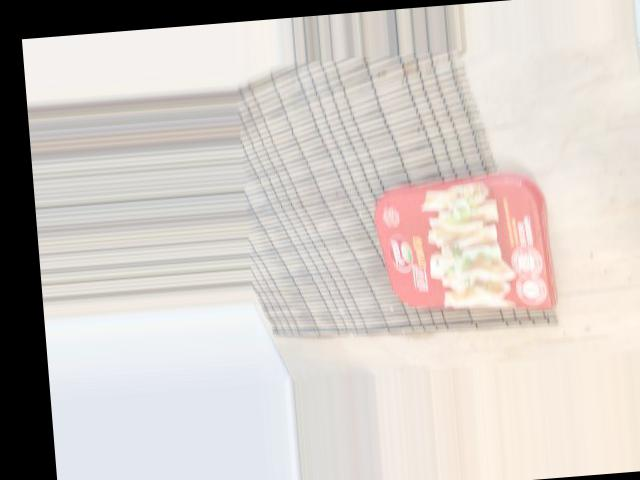cheese: (370, 51, 511, 249)
